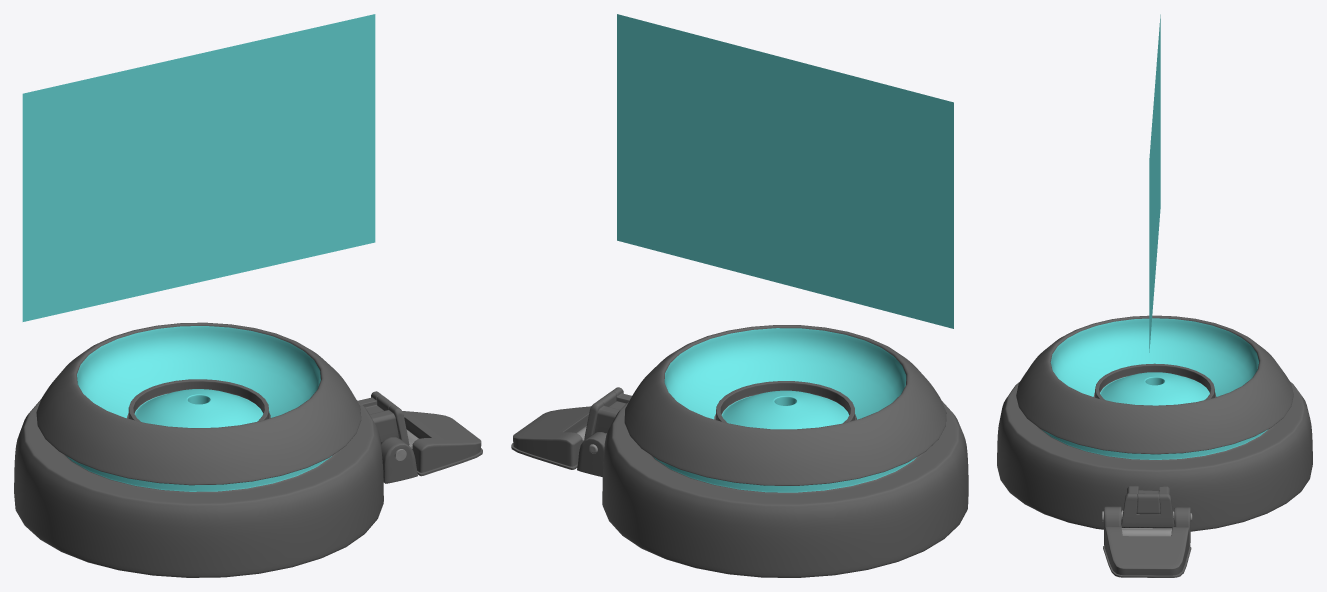
File: Hologram_device.fbx
The picture shows the model from 3 angles, left to right: view 1: azimuth 30°, elevation 25°; view 2: azimuth 150°, elevation 25°; view 3: azimuth 270°, elevation 25°; orthographic projection. The views are drawn at different scales.
Visible parts, largest first — view 1: polySurface15; view 2: polySurface15; view 3: polySurface15.
Boxes of the visible parts, x1,y1,x2,y2 form: polySurface15: [14, 14, 482, 577]; polySurface15: [511, 14, 968, 577]; polySurface15: [997, 14, 1312, 577].
Bounding box in the file's own units: 0.4634 × 0.4525 × 0.3394.
